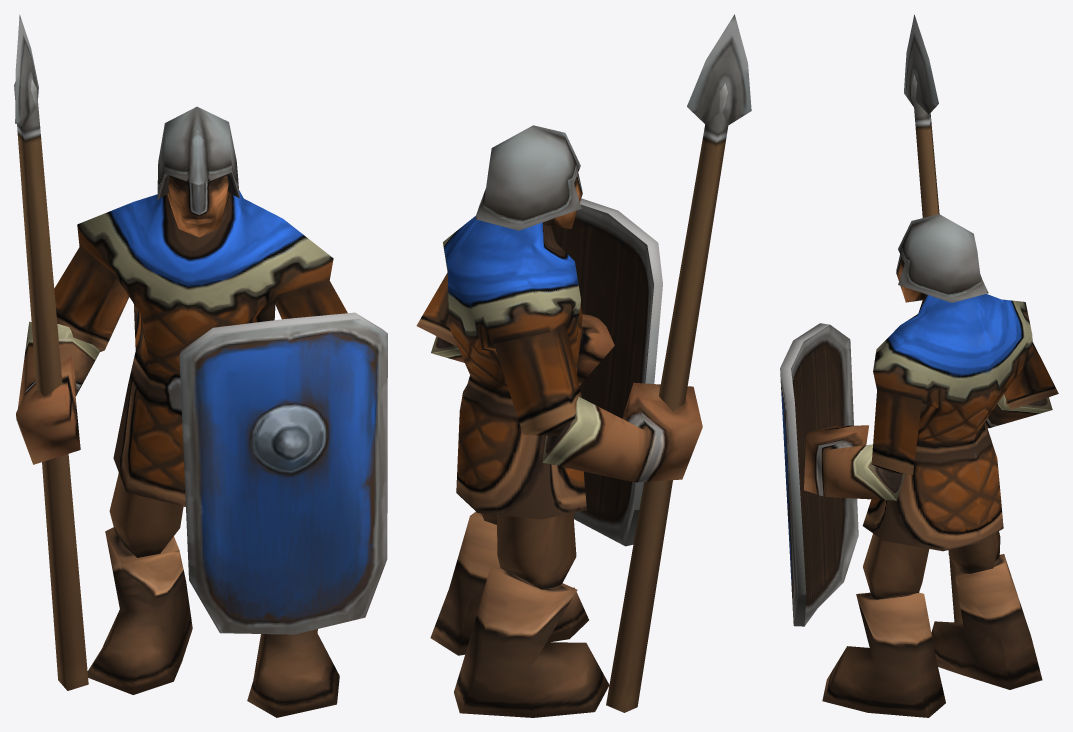
Rendered from x_borrar_spearman.FBX.
3 views of the same model, side by side, from view 1: azimuth 30°, elevation 25°; view 2: azimuth 150°, elevation 25°; view 3: azimuth 270°, elevation 25° (orthographic). The views are drawn at different scales.
Parts seen in each view (by area): view 1: WK_Spearman; view 2: WK_Spearman; view 3: WK_Spearman.
Boxes of the visible parts, x1,y1,x2,y2 form: WK_Spearman: (14, 14, 387, 717); WK_Spearman: (416, 14, 751, 717); WK_Spearman: (780, 14, 1058, 717).
Bounding box in the file's own units: 40.16 × 80.81 × 34.85.
Materials: 1 (1 with a texture image).
